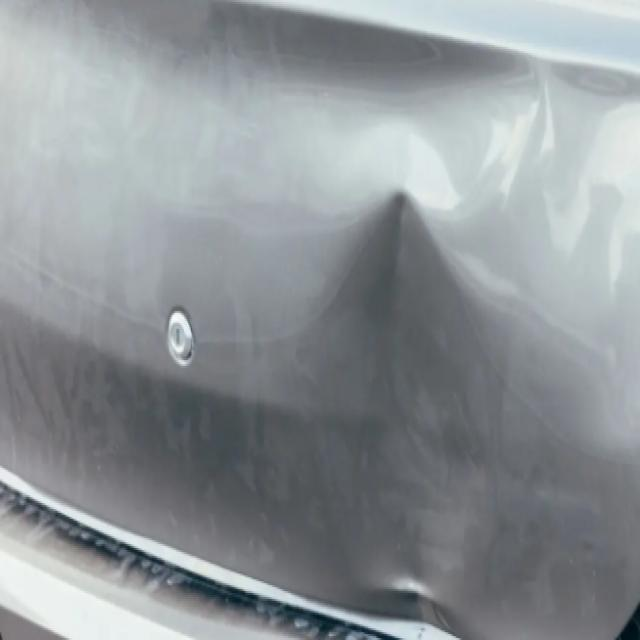dents: (280, 182, 544, 612)
